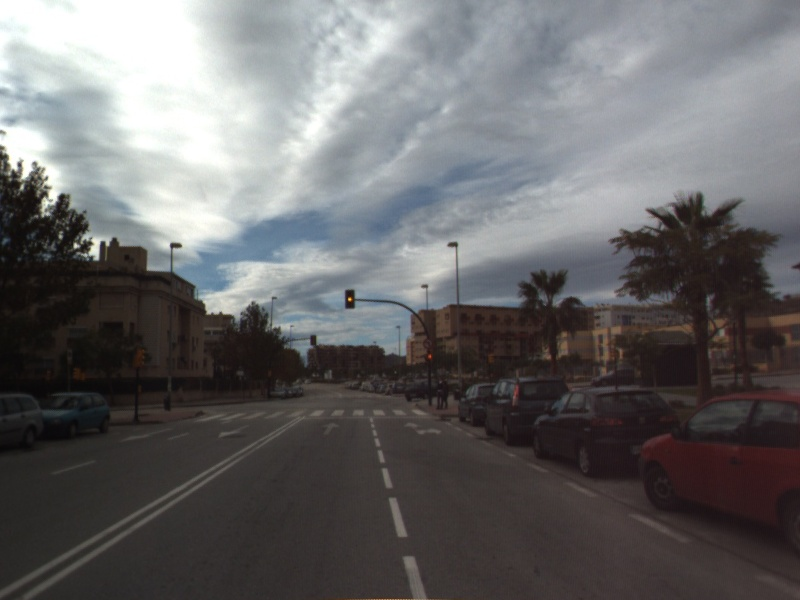STRAIGHT: (319, 420, 342, 437)
STRAIGHT_RIGHT: (402, 420, 444, 437)
